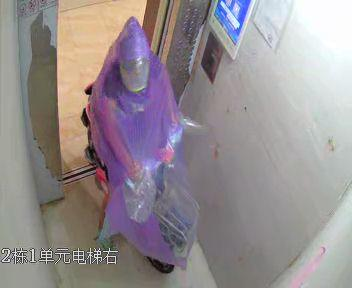Electric-bicycle: (84, 79, 196, 266)
